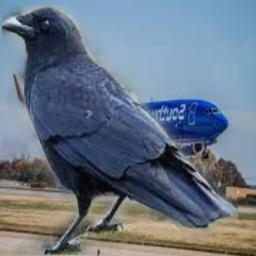Crow: (2, 5, 238, 255)
